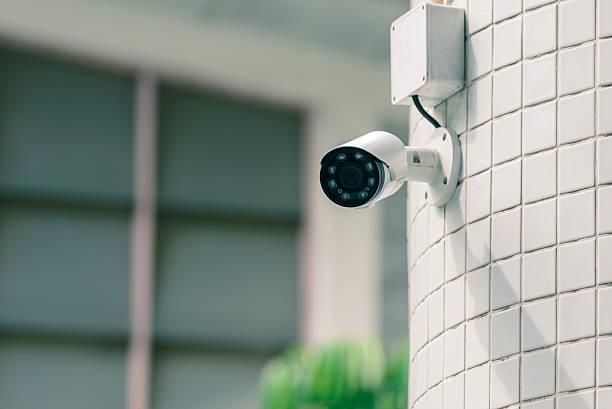camera: (293, 109, 419, 231)
